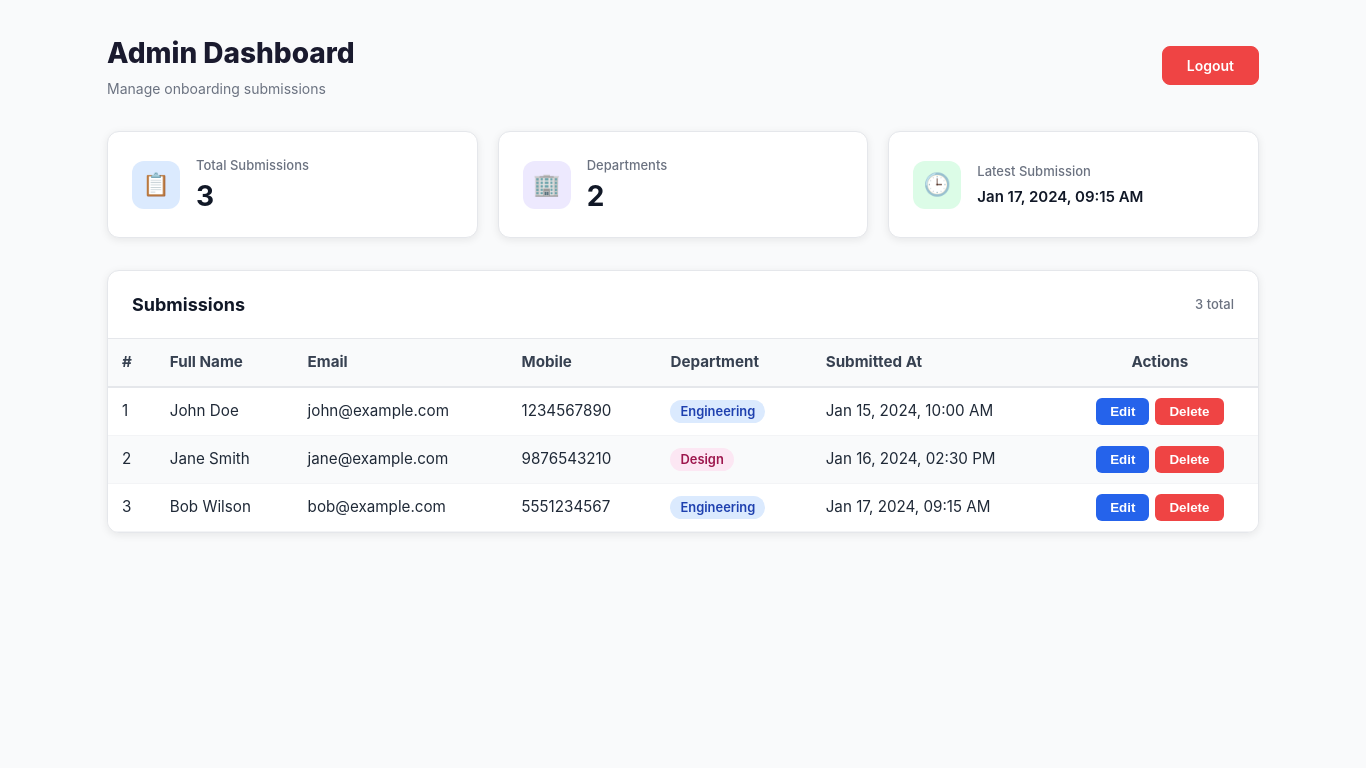
Test: AdminDashboard › edit modal › closes edit modal when close button is clicked
Click the button "Edit" in the row of "John Doe" at (1123, 411), box [1096,398,1149,425]
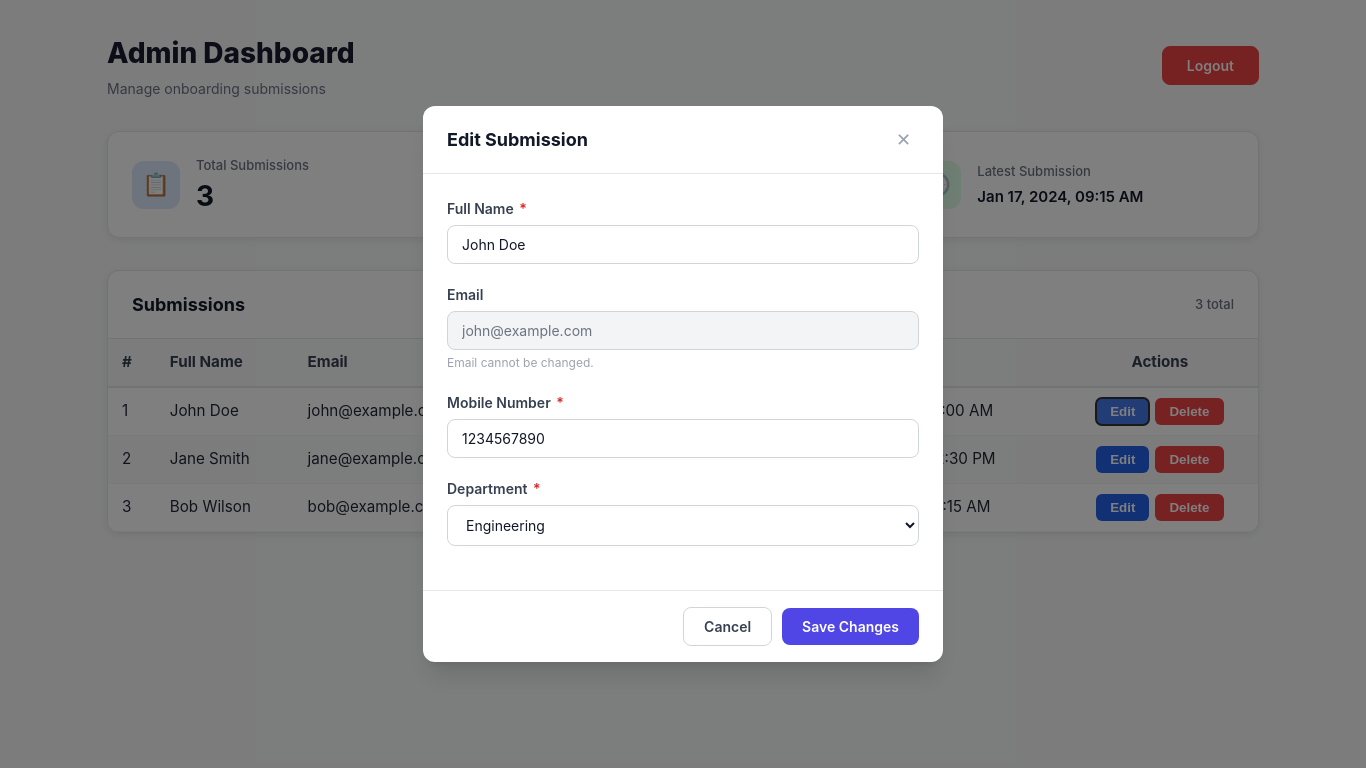
expect the heading "Edit Submission" is shown: met, box [447,126,588,153]
Click the button named "Close modal" at (903, 140), box [888,126,919,152]
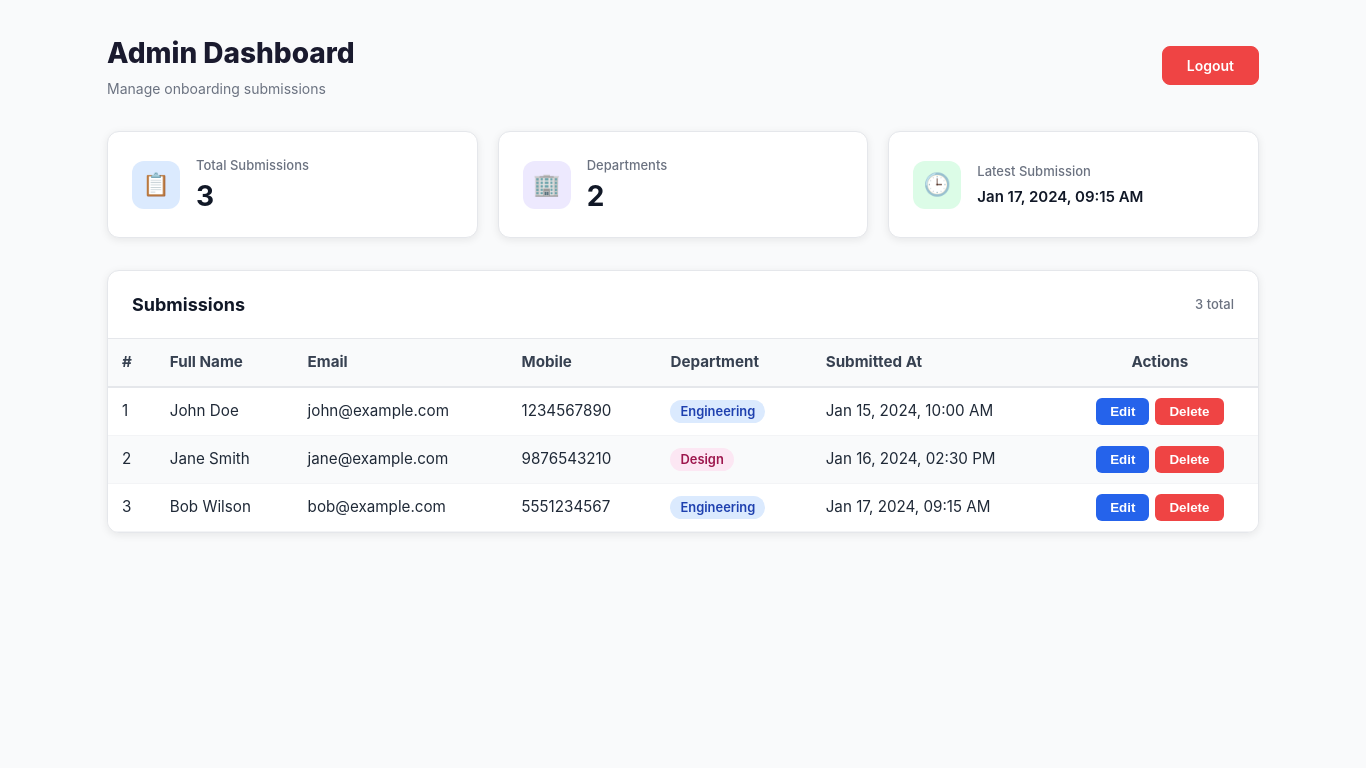
expect the heading "Edit Submission" is gone: met
